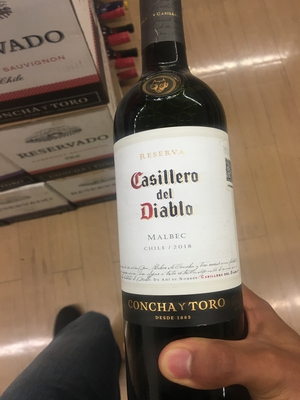casillero del diablo malbec: (106, 12, 254, 400)
